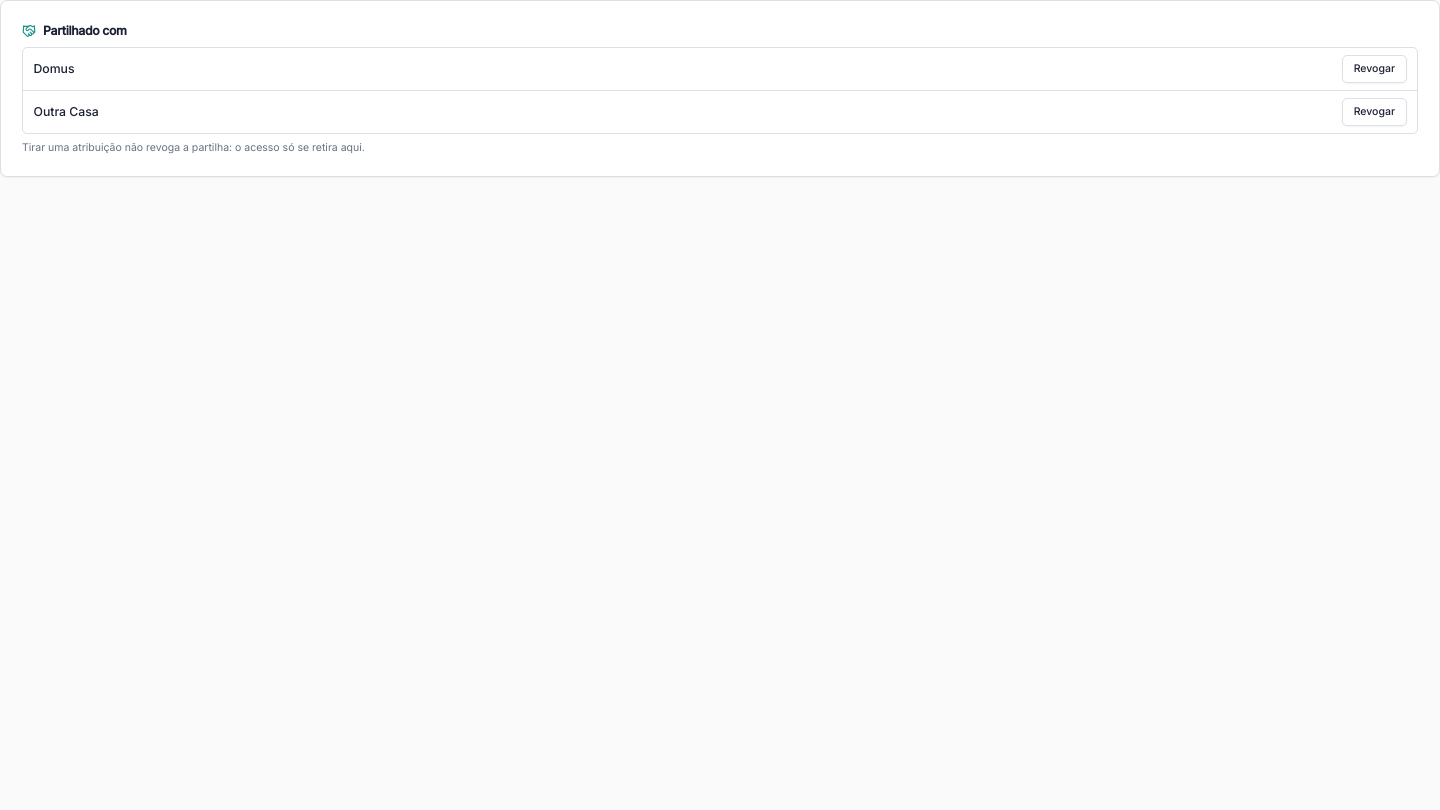
Test: PartilhaCard › revogar pergunta ANTES e não chama o servidor enquanto não confirmar
The image size is (1440, 810).
Click the button with aria-label "Revogar partilha com Domus" at point(1374, 68), box [1342, 54, 1406, 82]
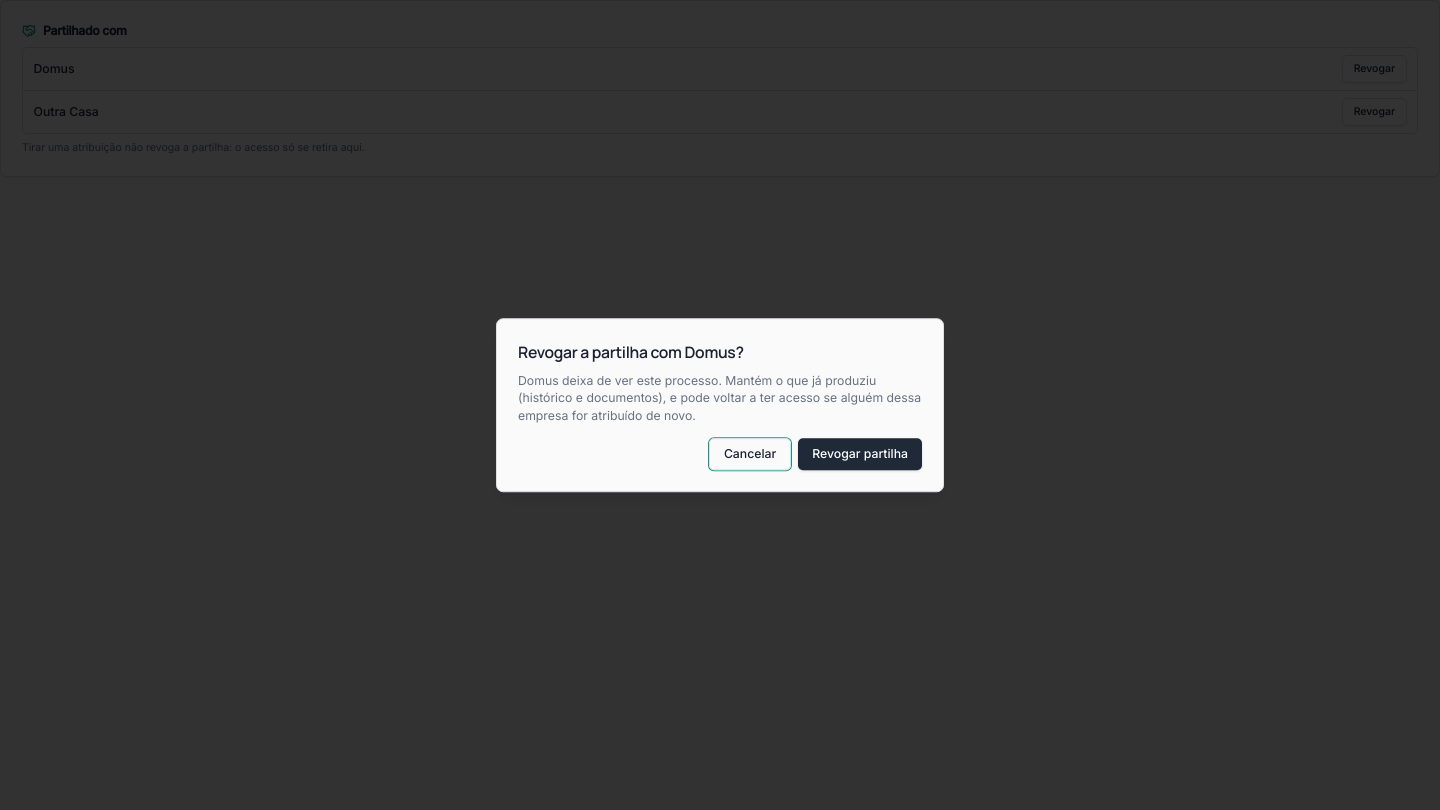
expect the dialog with test id "dialogo-revogar-partilha" shows "Domus deixa de ver este processo": met, box [496, 318, 944, 492]
